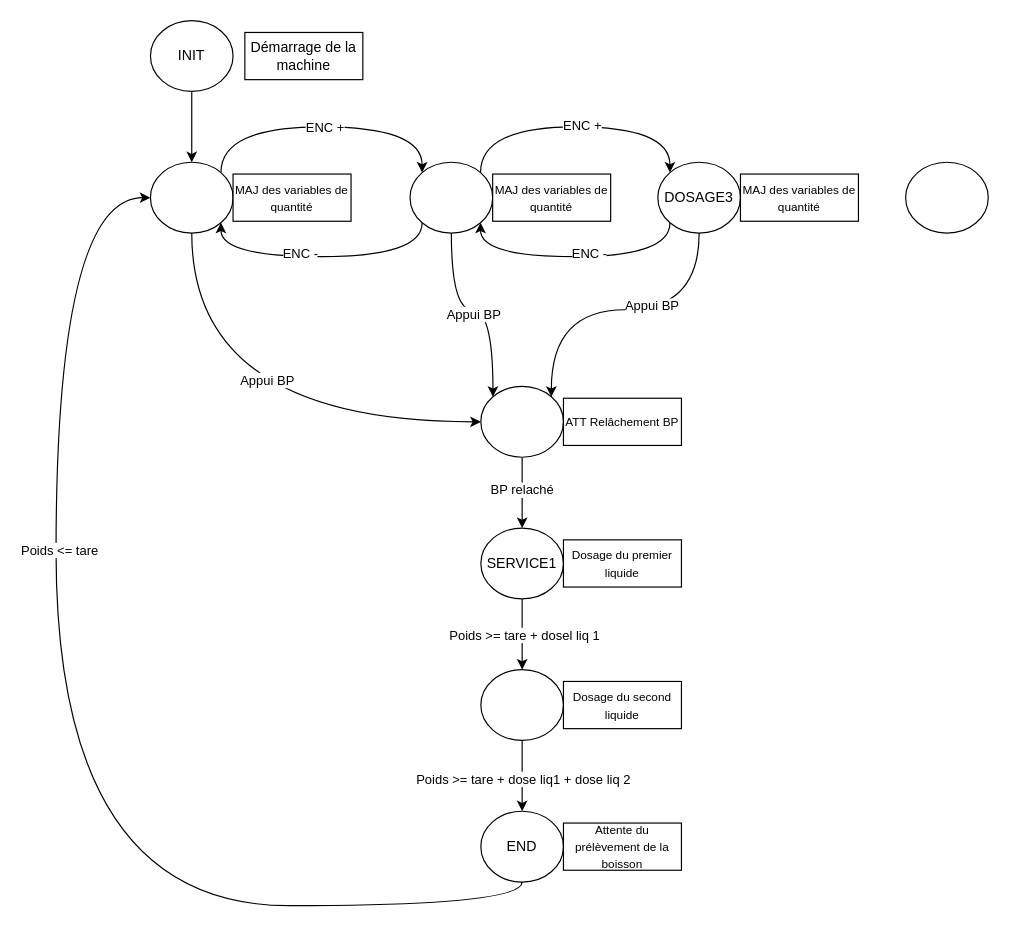
This 1009x926 diagram has some shape labels left out. Each missing label, with the centre of its shape:
"ATT_BP" belongs at point (521, 421).
"CUSTOM" belongs at point (946, 197).
"DOSAGE1" belongs at point (191, 197).
"DOSAGE2" belongs at point (451, 197).
"SERVICE2" belongs at point (521, 704).
